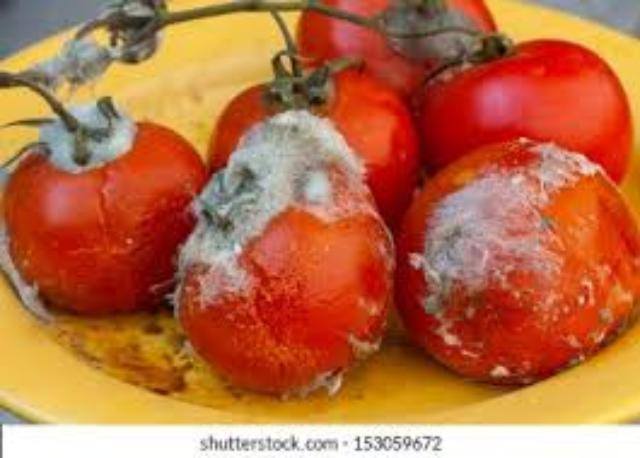defect: (176, 105, 399, 401), (398, 138, 638, 388), (2, 45, 209, 321)
